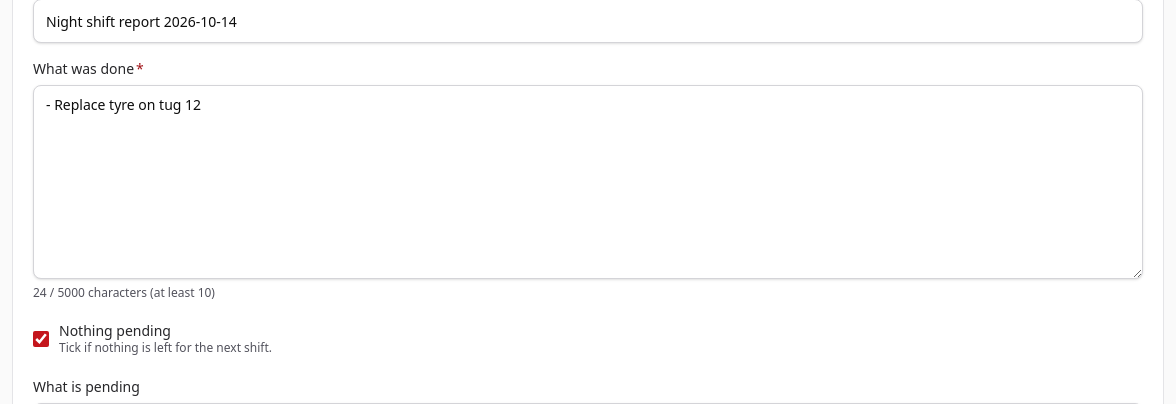
Scenario: report editor (author, draft) › shows the prefilled text, counts characters, and "nothing pending" disables the pending box
Check: the text box labelled "What was done*" holds "- Replace tyre on tug 12", box [33,85,1143,279]
Check: the text "24 / 5000 characters (at least 10)" is shown, box [33,284,215,301]
Click the checkbox labelled "Nothing pending Tick if nothing is left for the next shift." at (41, 339), box [33,331,49,347]
(page scrolled)
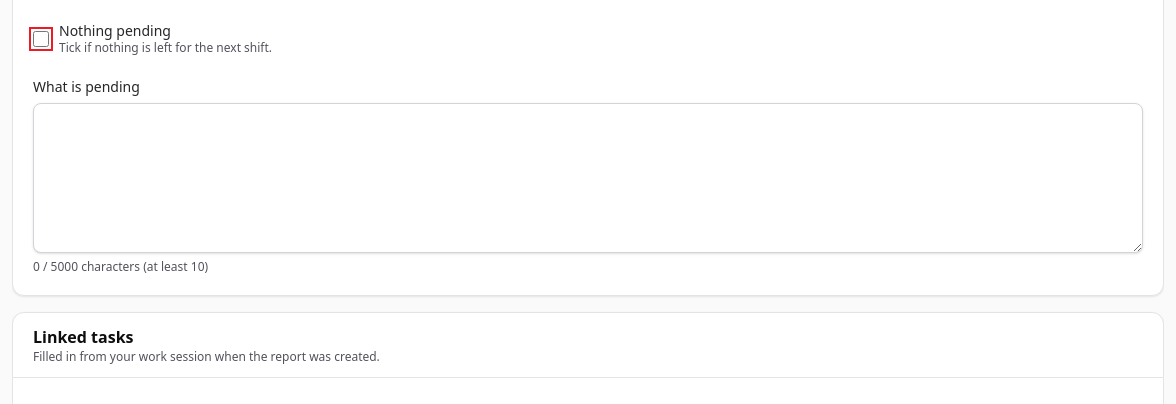
Check: the text box labelled "What is pending" is enabled, box [33,103,1143,253]
